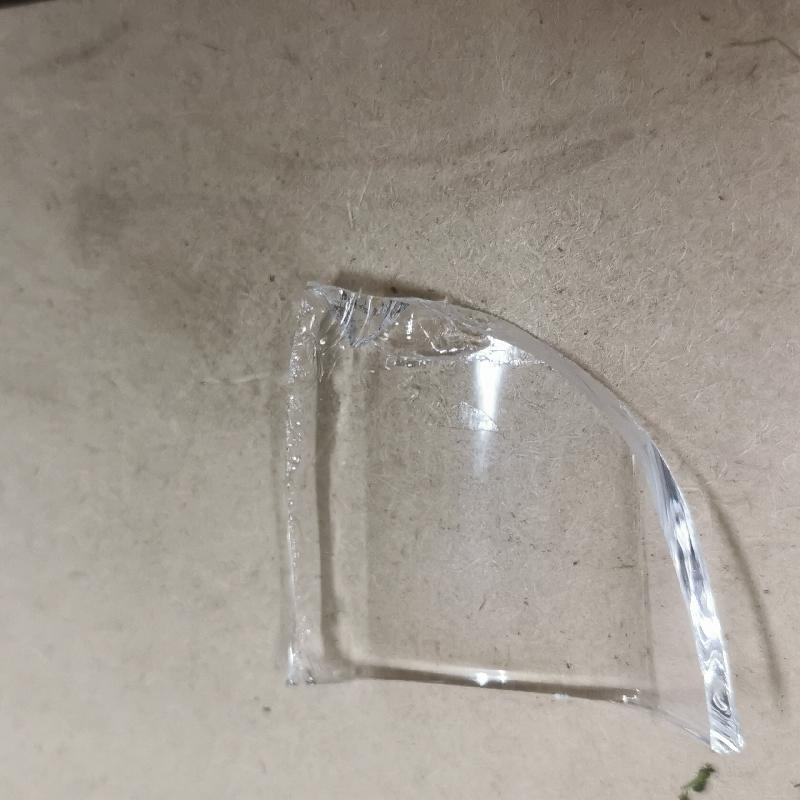glass: (270, 278, 752, 759)
